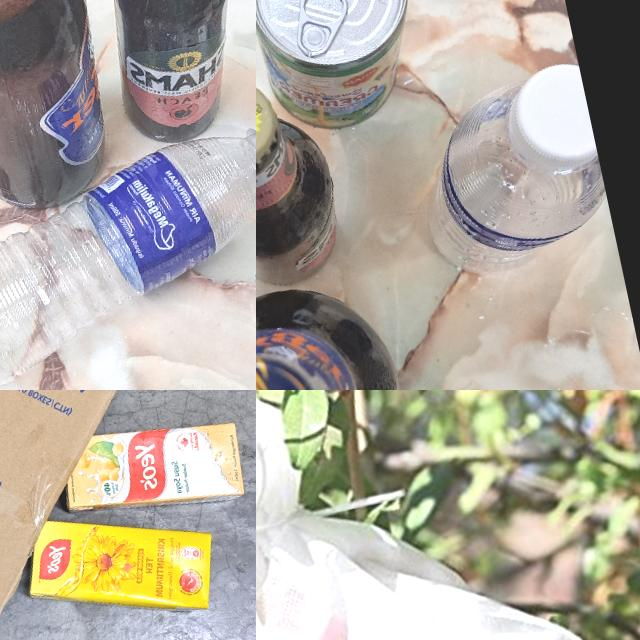aba de lata: (286, 0, 357, 62)
caixinha: (15, 487, 228, 640), (55, 407, 251, 532)
garrafa de vidro: (0, 0, 125, 226), (68, 0, 256, 150), (256, 60, 353, 303), (256, 269, 418, 390)
garrafa plástica: (0, 105, 256, 387), (406, 80, 618, 286)
lata: (256, 0, 433, 143)
papelão: (0, 390, 256, 640)
sacola plástica: (256, 390, 640, 640)
tampa plástica: (498, 56, 600, 181)
